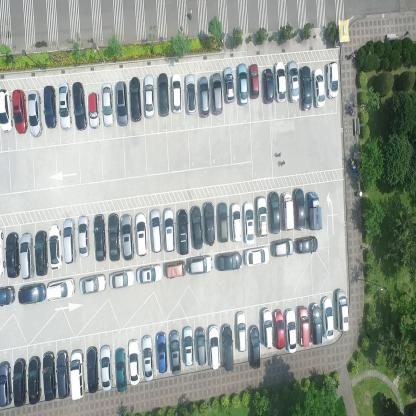car: (72, 80, 87, 133), (70, 350, 85, 401), (12, 89, 28, 135), (58, 82, 73, 131), (120, 212, 135, 261), (48, 221, 63, 270), (42, 350, 56, 402), (46, 277, 75, 302), (62, 217, 77, 265), (42, 84, 58, 128), (28, 89, 42, 139), (106, 212, 120, 262), (56, 348, 70, 398), (28, 355, 42, 405), (5, 232, 20, 278), (93, 213, 107, 262), (13, 356, 27, 405), (299, 64, 313, 112), (307, 190, 323, 232), (20, 232, 34, 280), (78, 272, 107, 295), (114, 346, 128, 393), (86, 345, 100, 392), (134, 211, 148, 257), (207, 324, 221, 370), (99, 344, 113, 390), (150, 208, 164, 253), (77, 214, 91, 259), (335, 288, 349, 333), (35, 229, 48, 277), (141, 334, 154, 382), (0, 360, 13, 408), (236, 63, 250, 107), (18, 283, 46, 305), (203, 199, 216, 246), (176, 208, 189, 255), (101, 82, 114, 128), (0, 87, 13, 133), (293, 185, 306, 231), (190, 204, 203, 250), (321, 294, 334, 340), (284, 307, 297, 353), (312, 66, 326, 108), (296, 306, 310, 348), (211, 71, 224, 116), (130, 76, 142, 124), (116, 80, 128, 128), (169, 328, 181, 376), (128, 338, 140, 386), (187, 254, 213, 276), (216, 250, 243, 271), (163, 206, 175, 253), (256, 195, 269, 238), (243, 199, 255, 245), (244, 246, 270, 267), (109, 269, 135, 290), (185, 71, 197, 116), (136, 264, 163, 284), (282, 189, 295, 230), (287, 60, 299, 104), (275, 60, 287, 104), (171, 72, 183, 116), (158, 73, 170, 117), (310, 301, 322, 345), (222, 322, 233, 370), (223, 64, 236, 104), (88, 90, 101, 130), (198, 75, 210, 118), (326, 60, 339, 99), (273, 308, 285, 350), (235, 310, 247, 352), (182, 324, 194, 366), (249, 324, 260, 369), (262, 67, 275, 105), (262, 307, 274, 348), (156, 332, 168, 373), (269, 191, 280, 235), (218, 200, 229, 243), (231, 201, 242, 243), (272, 238, 294, 259), (297, 235, 320, 255), (144, 74, 154, 118), (249, 63, 260, 100), (196, 326, 206, 366), (166, 261, 186, 279), (0, 285, 15, 307), (0, 228, 6, 278)
